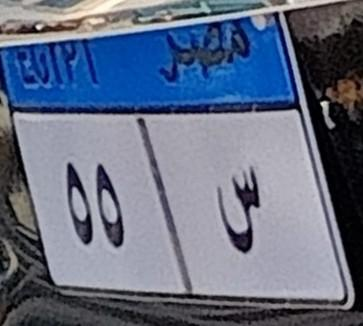5: (94, 158, 138, 266), (54, 159, 98, 257)
س: (211, 131, 275, 275)
